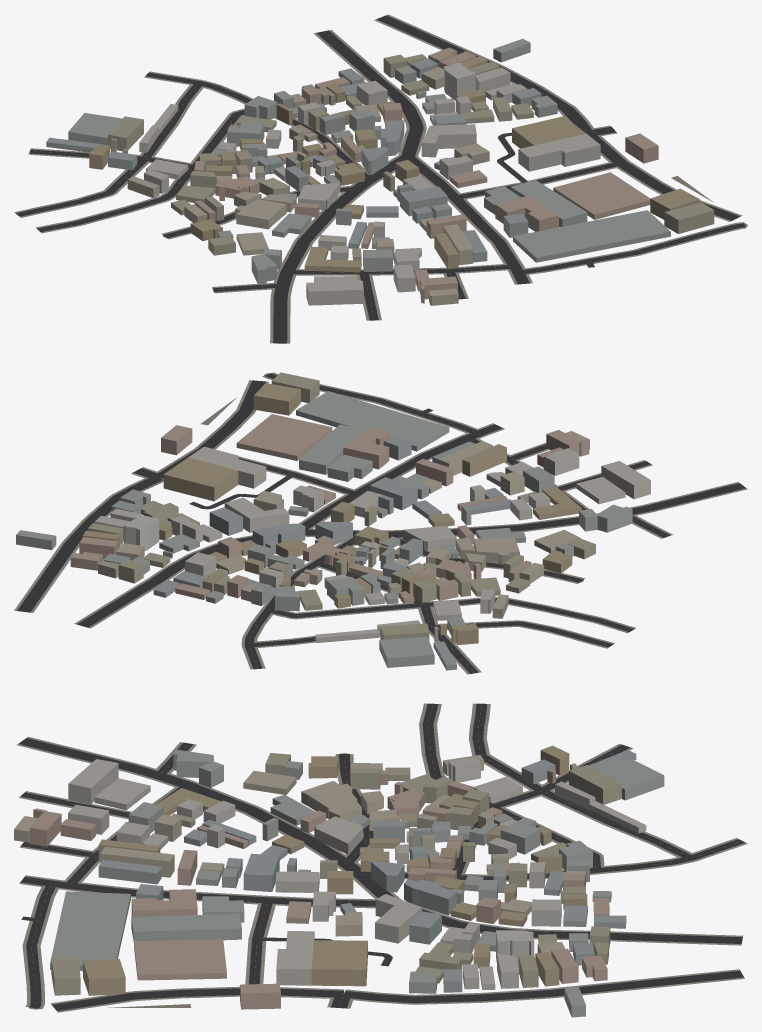
The picture shows the model from 3 angles, top to bottom: view 1: azimuth 30°, elevation 25°; view 2: azimuth 150°, elevation 25°; view 3: azimuth 270°, elevation 25°; orthographic projection. The views are drawn at different scales.
Parts seen in each view (by area): view 1: tile_-3_-2; view 2: tile_-3_-2; view 3: tile_-3_-2.
Part boxes in pixels (box(x1,y1,x2,y2)): tile_-3_-2: box(14, 14, 747, 343); tile_-3_-2: box(14, 372, 747, 674); tile_-3_-2: box(14, 703, 747, 1017).
Size of the model in its own units: 413 by 16.4 by 408.
